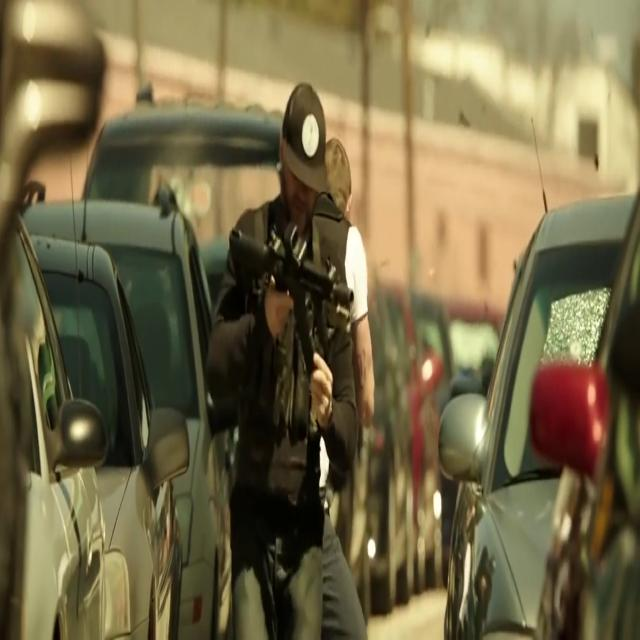Weapon: (234, 178, 352, 409)
